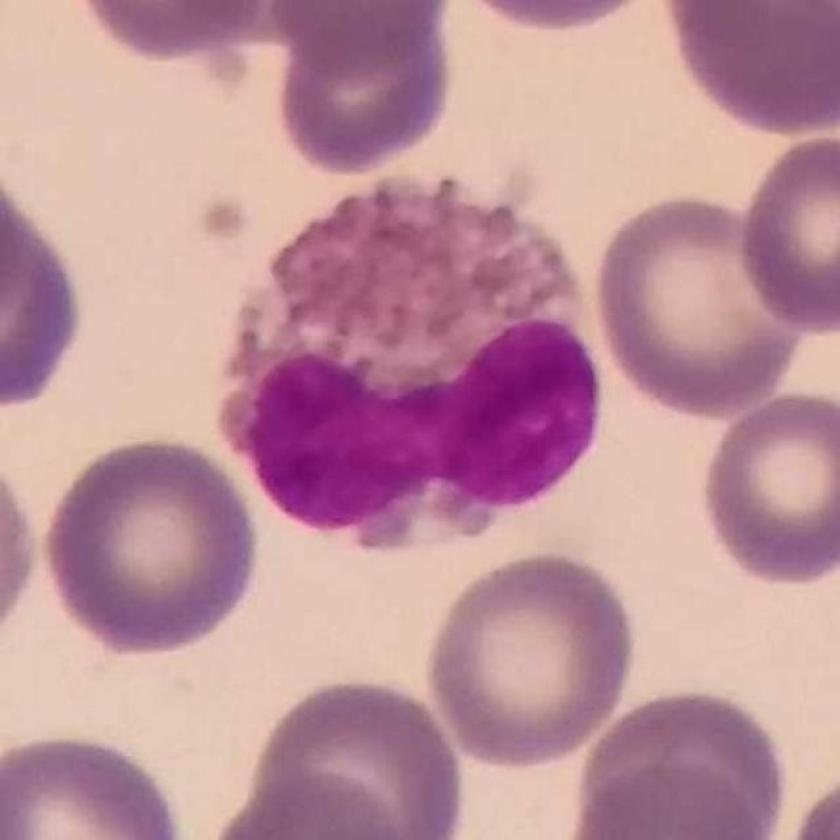eosinophil: (222, 172, 610, 545)
